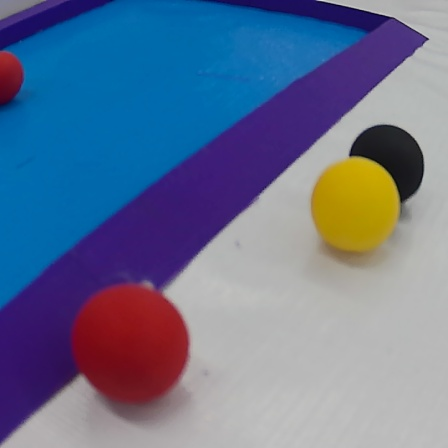black: (344, 122, 427, 207)
blue_aim: (2, 0, 434, 445)
red: (68, 277, 199, 408), (0, 47, 28, 106)
yellow: (310, 157, 403, 264)
